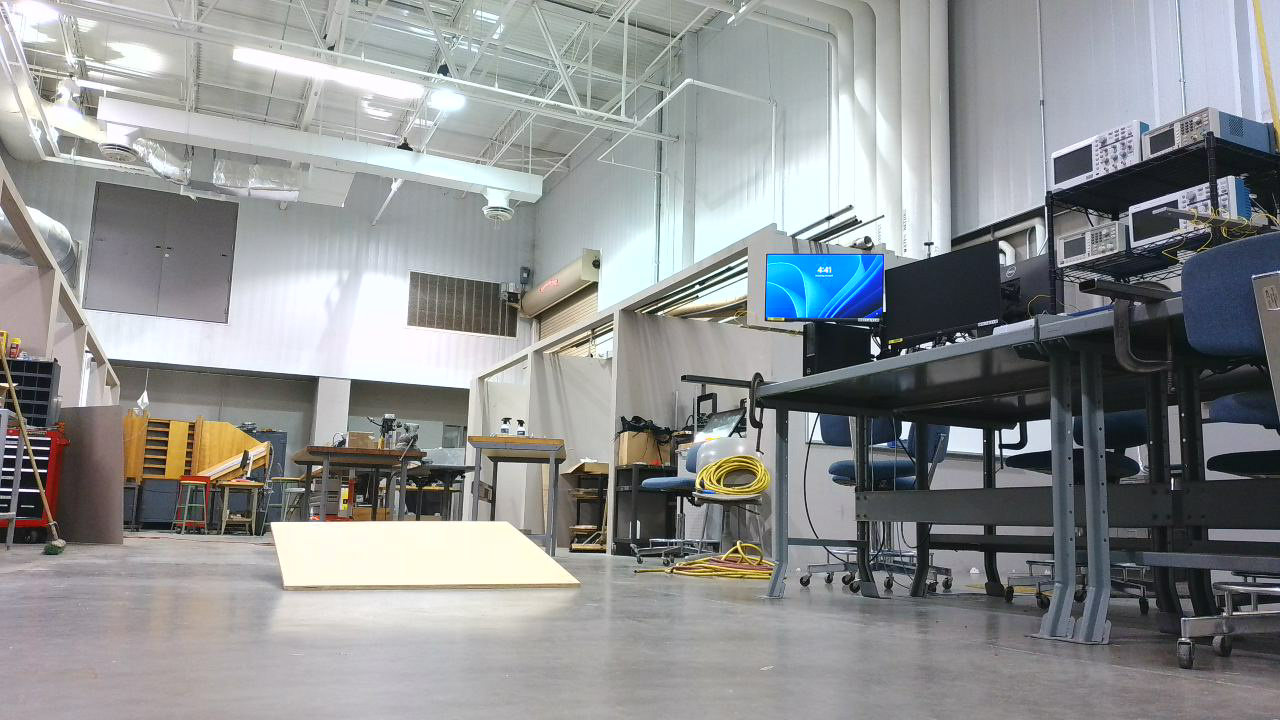ramp: (272, 519, 589, 602)
